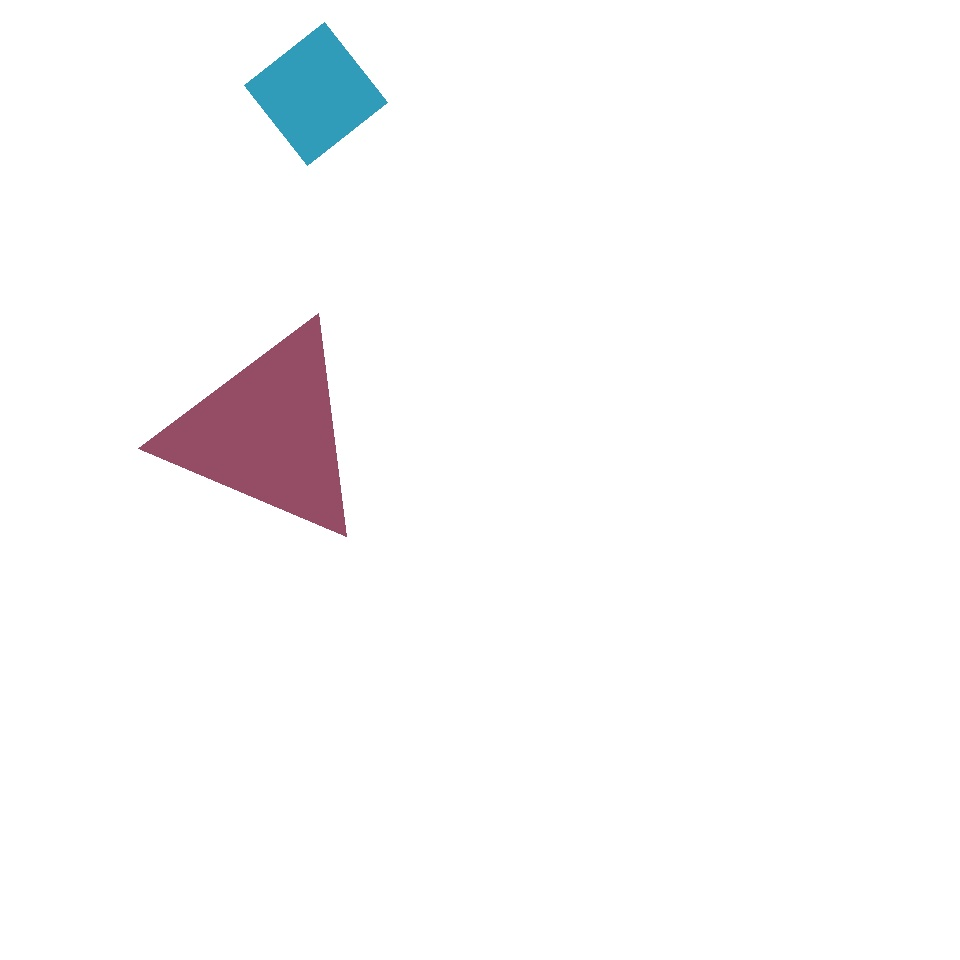circle: (308, 168, 596, 441), (164, 322, 372, 544), (92, 130, 274, 326), (758, 420, 938, 600)
square: (164, 402, 314, 550), (244, 22, 388, 166)
triangle: (102, 233, 404, 536)
